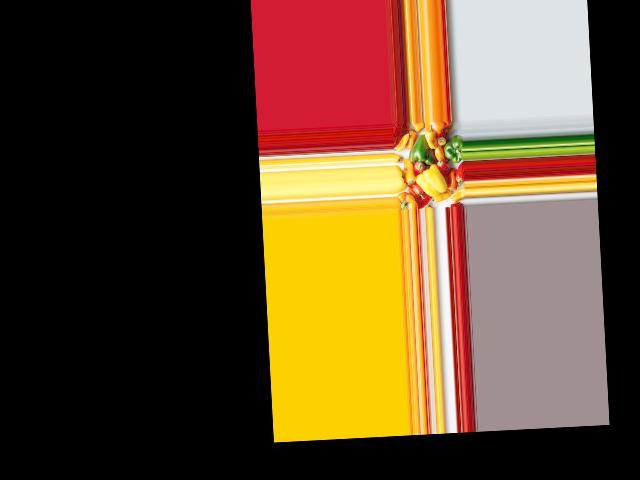bell_pepper: (452, 163, 465, 186)
